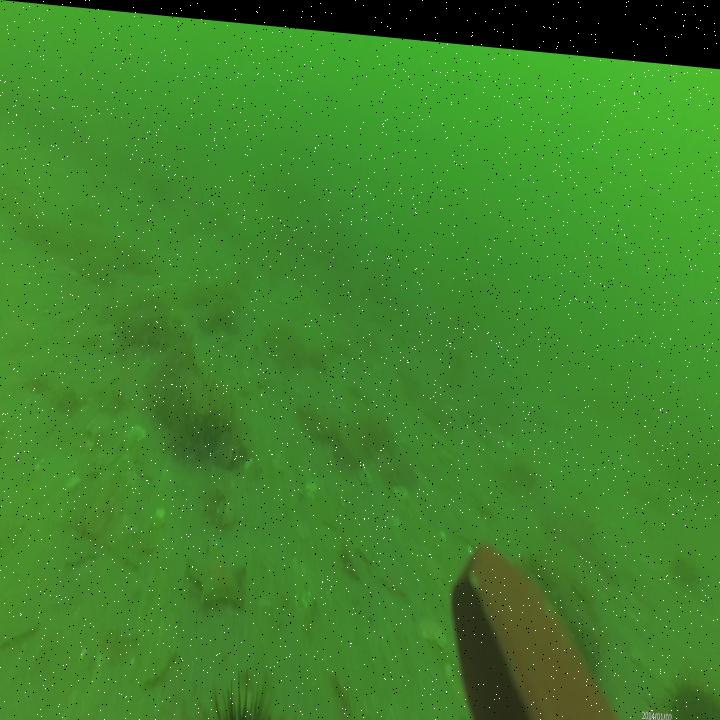echinus: (200, 670, 289, 720), (663, 651, 720, 720)
starfish: (187, 534, 247, 606)
